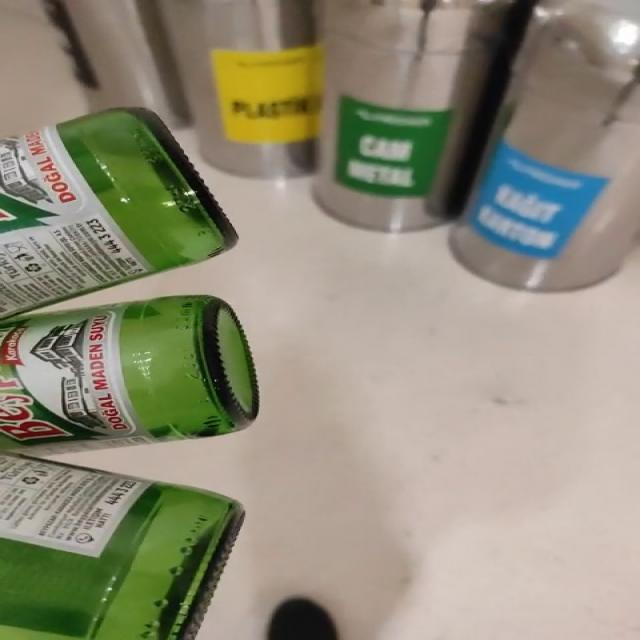glass: (0, 296, 259, 640), (0, 109, 236, 316)
